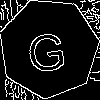G: (24, 23, 68, 74)
